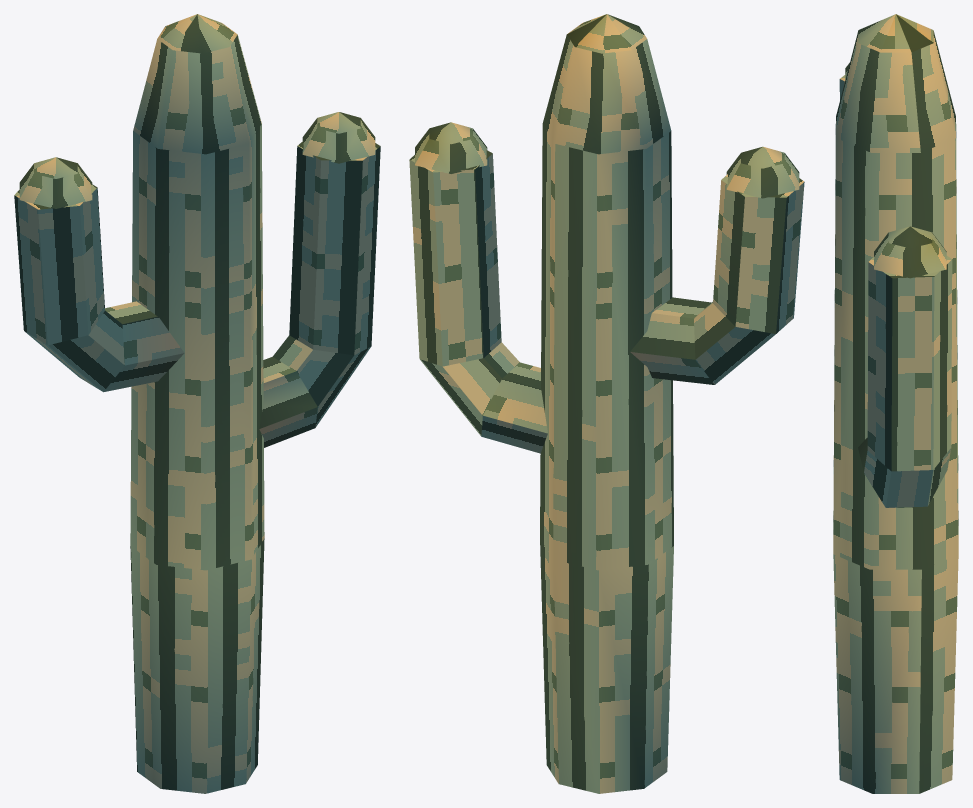
The model's file is wprop.cactus__tall.glb.
3 views of the same model, side by side, from view 1: azimuth 30°, elevation 25°; view 2: azimuth 150°, elevation 25°; view 3: azimuth 270°, elevation 25° (orthographic).
Visible parts, largest first — view 1: kit_trunk, kit_arms, kit_tips; view 2: kit_trunk, kit_arms, kit_tips; view 3: kit_trunk, kit_arms, kit_tips.
Part boxes in pixels (x1,y1,x2,y2): kit_trunk: (130,14,264,793); kit_arms: (14,141,380,447); kit_tips: (19,112,375,208); kit_trunk: (540,14,673,793); kit_arms: (409,150,804,453); kit_tips: (415,122,799,198); kit_trunk: (833,14,958,793); kit_arms: (839,75,952,507); kit_tips: (845,62,946,278).
Bounding box in the file's own units: 2.36 × 4.6 × 0.6906.
Materials: 1 (1 with a texture image).
